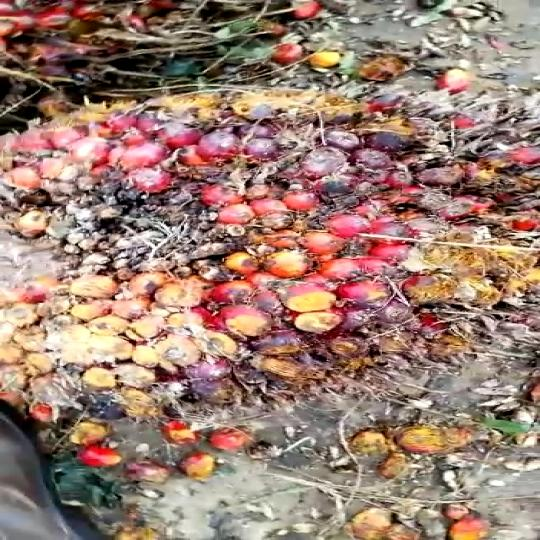masak: (0, 81, 540, 478)
